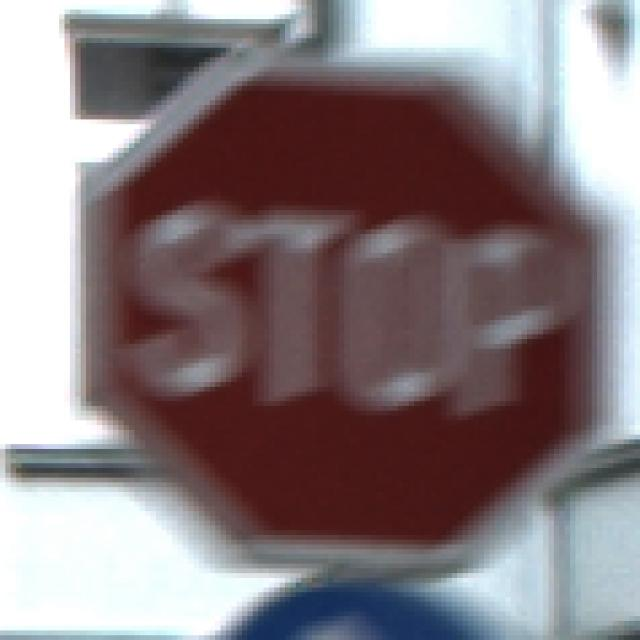STOP: (55, 58, 587, 584)
